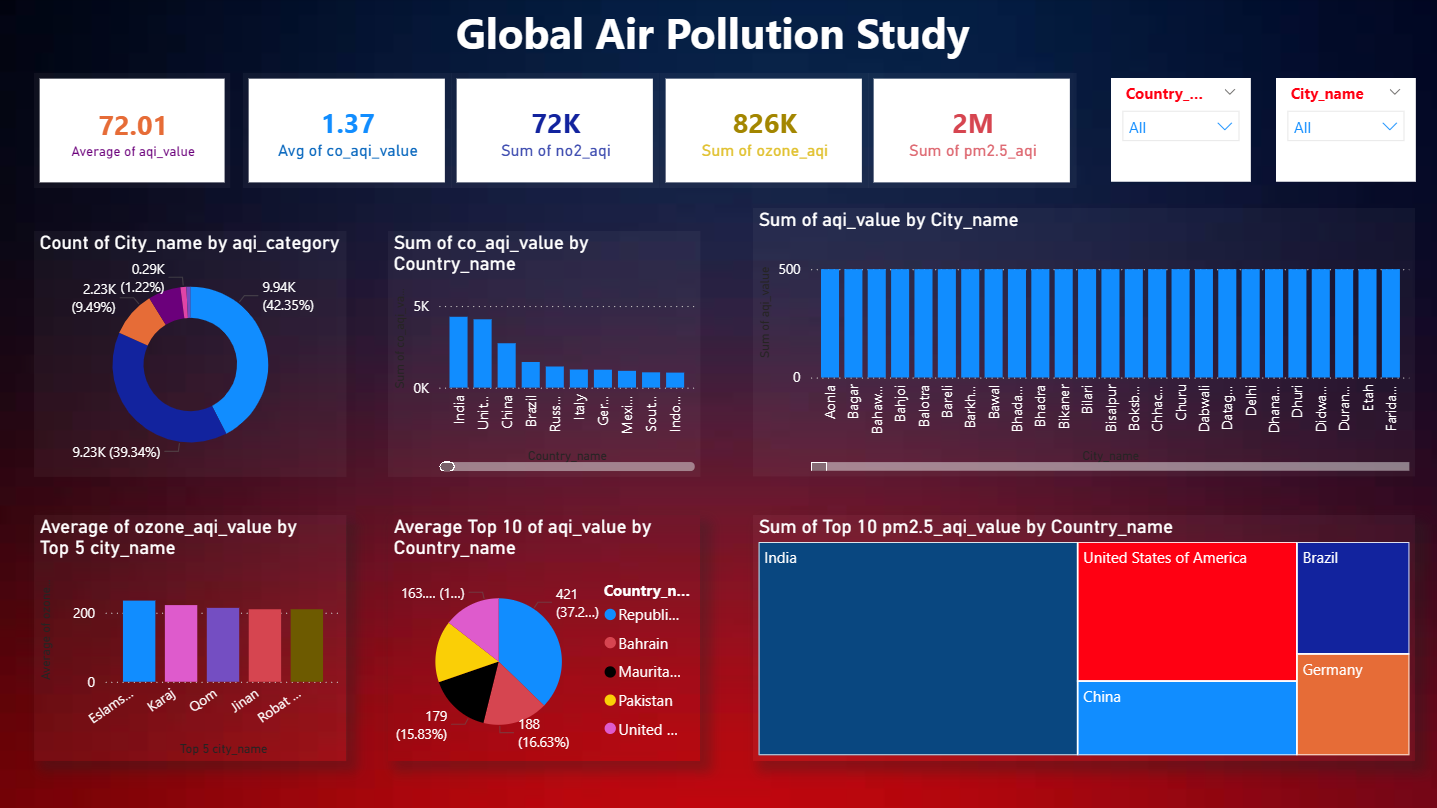

This screenshot's page, from the dashboard's own definition file:
{"tool":"powerbi","page":{"name":"Page 1","canvas":[1280,720],"ordinal":0},"visuals":[{"type":"textbox","box":[345.8,0,587.9,86],"z":0},{"type":"cardVisual","fields":{"Data":["Avg(global_air_pollution_data.aqi_value)"]},"box":[33.1,66.1,174.1,102.1],"z":1000},{"type":"clusteredColumnChart","fields":{"Category":["global_air_pollution_data.city_name"],"Y":["Sum(global_air_pollution_data.aqi_value)"]},"box":[670.2,185.8,587.5,238.3],"z":2000},{"type":"cardVisual","fields":{"Data":["Avg(global_air_pollution_data.co_aqi_value)"]},"box":[217.9,66.1,184.8,102.1],"z":3000},{"type":"cardVisual","fields":{"Data":["Sum(global_air_pollution_data.no2_aqi_value)"]},"box":[402.7,66.1,184.8,102.1],"z":4000},{"type":"cardVisual","fields":{"Data":["Sum(global_air_pollution_data.ozone_aqi_value)"]},"box":[587.5,66.1,184.8,102.1],"z":5000},{"type":"cardVisual","fields":{"Data":["Sum(global_air_pollution_data.pm2.5_aqi_value)"]},"box":[772.3,66.1,184.8,102.1],"z":6000},{"type":"slicer","fields":{"Values":["global_air_pollution_data.city_name"]},"box":[1134.1,71,123.5,92.4],"z":7000},{"type":"slicer","fields":{"Values":["global_air_pollution_data.country_name"]},"box":[988.2,71,123.5,92.4],"z":8000},{"type":"donutChart","fields":{"Category":["global_air_pollution_data.aqi_category"],"Y":["CountNonNull(global_air_pollution_data.city_name)"]},"box":[33.1,206.2,277.2,217.9],"z":9000},{"type":"clusteredColumnChart","fields":{"Y":["Sum(global_air_pollution_data.co_aqi_value)"],"Category":["global_air_pollution_data.country_name"]},"box":[346.3,206.2,277.2,217.9],"z":10000},{"type":"pieChart","fields":{"Category":["global_air_pollution_data.country_name"],"Y":["Avg(global_air_pollution_data.aqi_value)"]},"box":[346.3,458.1,277.2,217.9],"z":11000},{"type":"clusteredColumnChart","fields":{"Category":["global_air_pollution_data.city_name"],"Y":["Avg(global_air_pollution_data.ozone_aqi_value)"]},"box":[33.1,458.1,277.2,217.9],"z":12000},{"type":"treemap","fields":{"Group":["global_air_pollution_data.Country_name"],"Values":["Sum(global_air_pollution_data.pm2.5_aqi_value)"]},"box":[670,458,587,218],"z":13000}]}

Visuals, with their boxes in screenshot pixels (x1, y1, x2, y2), scaled from the page's 1280x720 canvas onto the 1437x808 screenshot:
textbox: l=388, t=0, r=1048, b=97
cardVisual - Avg(global_air_pollution_data.aqi_value): l=37, t=74, r=233, b=189
clusteredColumnChart - global_air_pollution_data.city_name x Sum(global_air_pollution_data.aqi_value): l=752, t=209, r=1412, b=476
cardVisual - Avg(global_air_pollution_data.co_aqi_value): l=245, t=74, r=452, b=189
cardVisual - Sum(global_air_pollution_data.no2_aqi_value): l=452, t=74, r=660, b=189
cardVisual - Sum(global_air_pollution_data.ozone_aqi_value): l=660, t=74, r=867, b=189
cardVisual - Sum(global_air_pollution_data.pm2.5_aqi_value): l=867, t=74, r=1074, b=189
slicer - global_air_pollution_data.city_name: l=1273, t=80, r=1412, b=183
slicer - global_air_pollution_data.country_name: l=1109, t=80, r=1248, b=183
donutChart - global_air_pollution_data.aqi_category x CountNonNull(global_air_pollution_data.city_name): l=37, t=231, r=348, b=476
clusteredColumnChart - Sum(global_air_pollution_data.co_aqi_value) x global_air_pollution_data.country_name: l=389, t=231, r=700, b=476
pieChart - global_air_pollution_data.country_name x Avg(global_air_pollution_data.aqi_value): l=389, t=514, r=700, b=759
clusteredColumnChart - global_air_pollution_data.city_name x Avg(global_air_pollution_data.ozone_aqi_value): l=37, t=514, r=348, b=759
treemap - global_air_pollution_data.Country_name x Sum(global_air_pollution_data.pm2.5_aqi_value): l=752, t=514, r=1411, b=759
